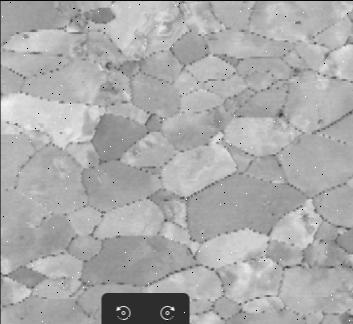good_void: (298, 209, 318, 231), (101, 57, 114, 71), (276, 106, 286, 124), (316, 114, 324, 126), (292, 17, 301, 26)
